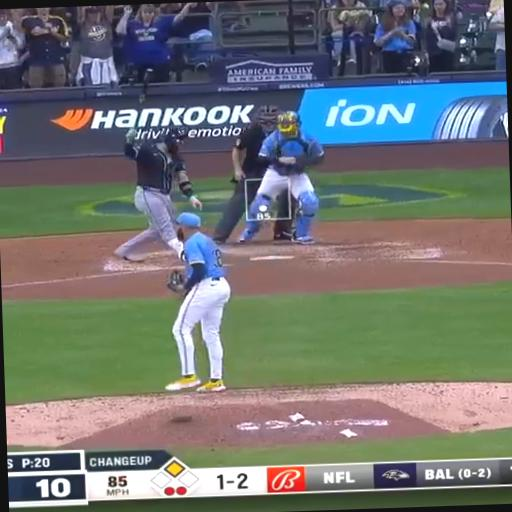bat: (139, 69, 152, 104)
